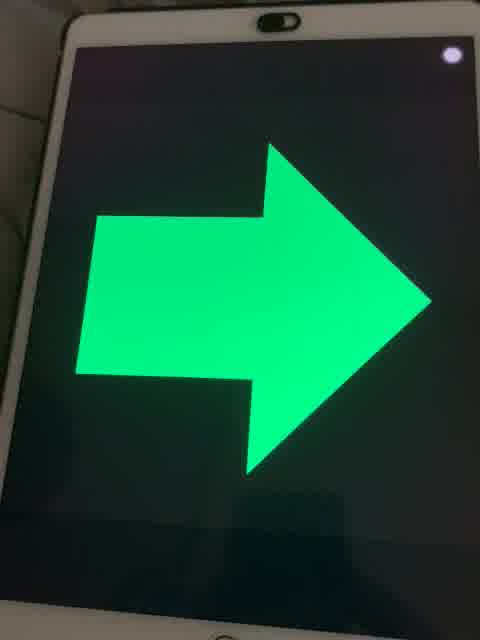right: (74, 130, 437, 478)
